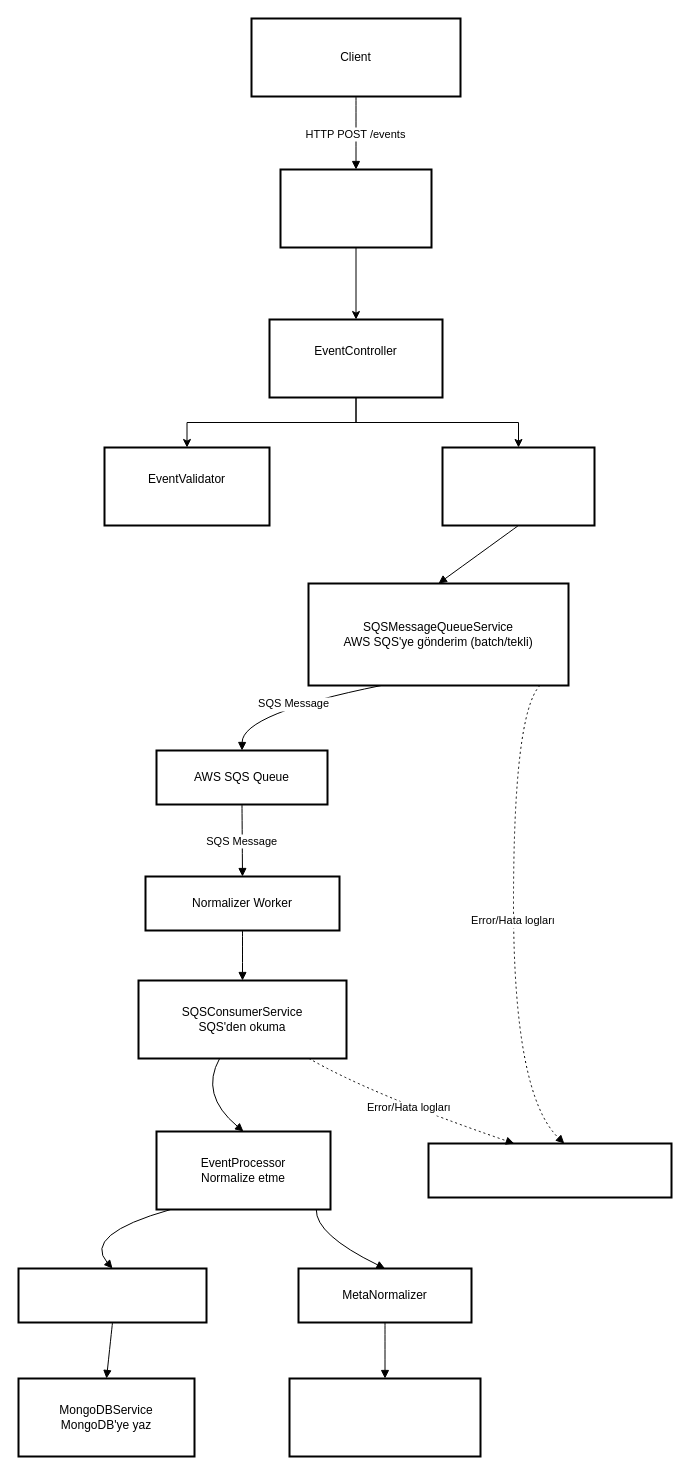
Image size: 689x1474. Some labels were removed from this diagram. The centre of each missing label's shape, as x and y in pixels:
"EventService" goes at point (518, 486).
"GoogleNormalizer" goes at point (112, 1295).
"Ingestion API Express.js" goes at point (355, 208).
"Loglama & Hata Yönetimi" goes at point (549, 1170).
"PostgreSQLService PostgreSQL'e yaz" goes at point (384, 1417).
